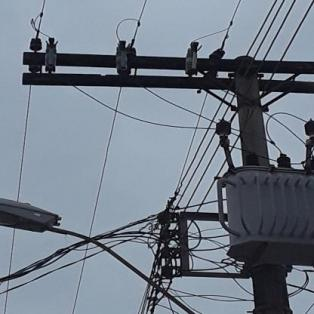Poste: (229, 47, 294, 314)
